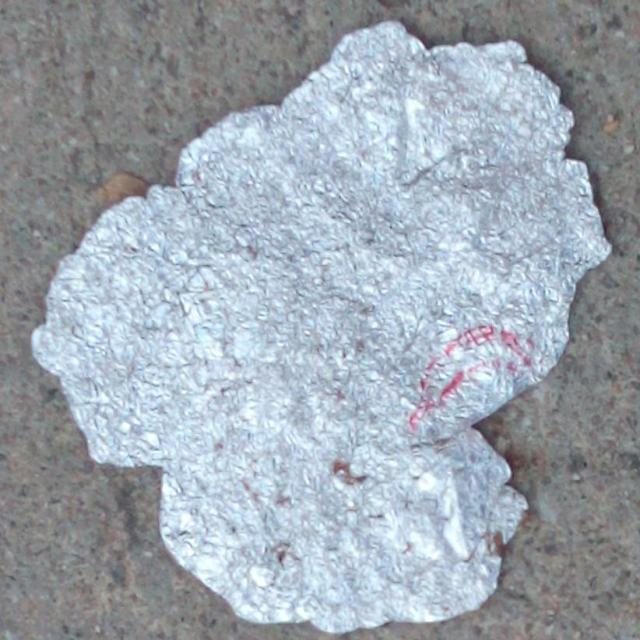litter: (36, 17, 611, 635)
